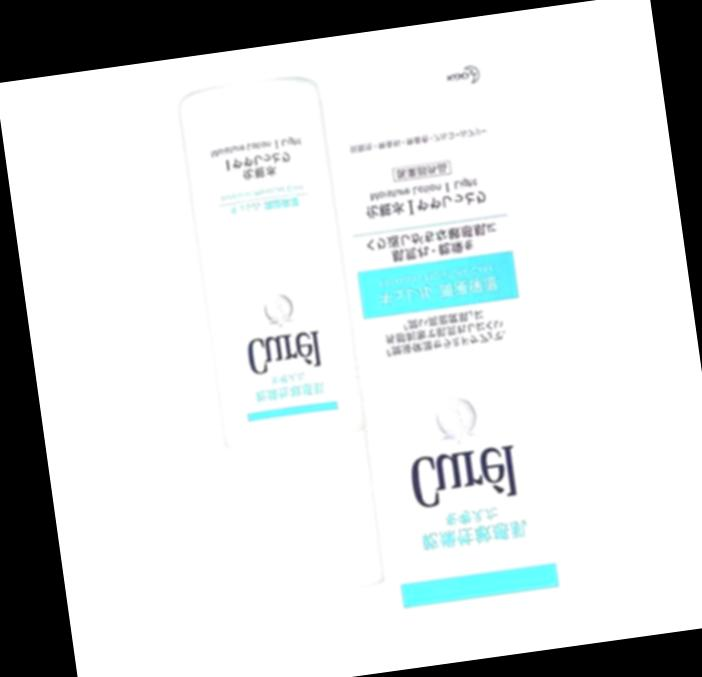cosmetic: (177, 85, 391, 603)
